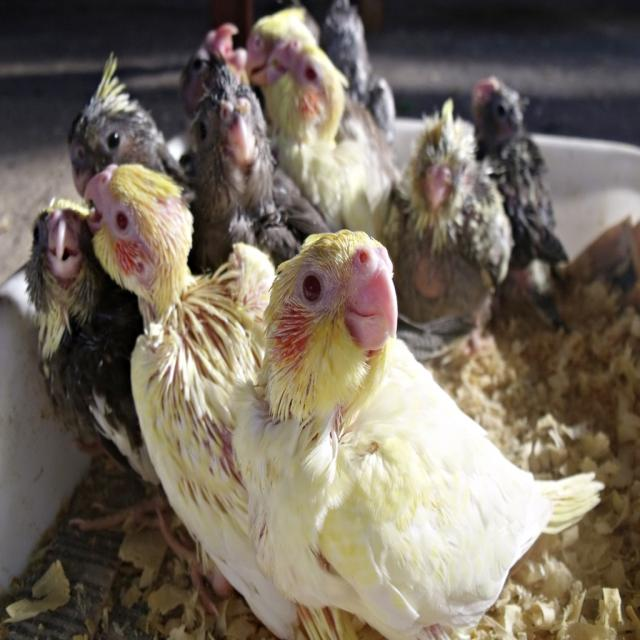Chicken: (23, 0, 606, 640)
